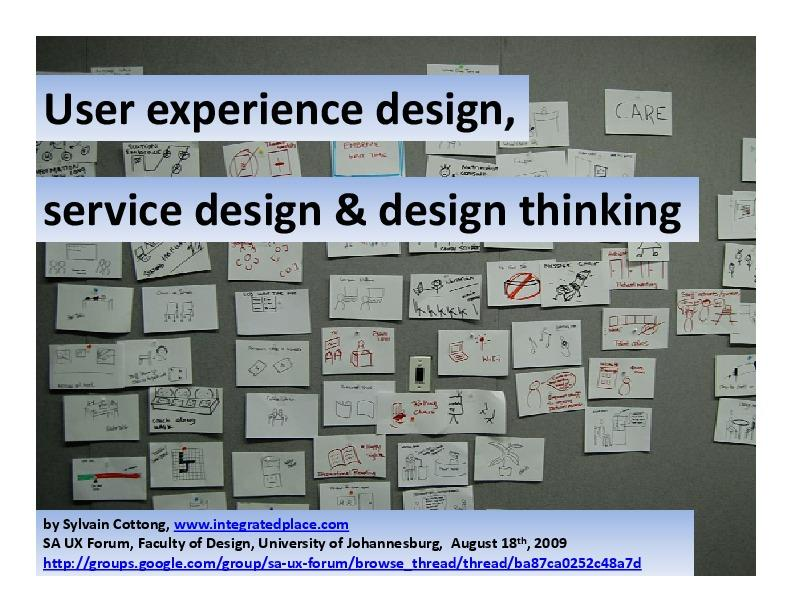title: (35, 73, 712, 268)
